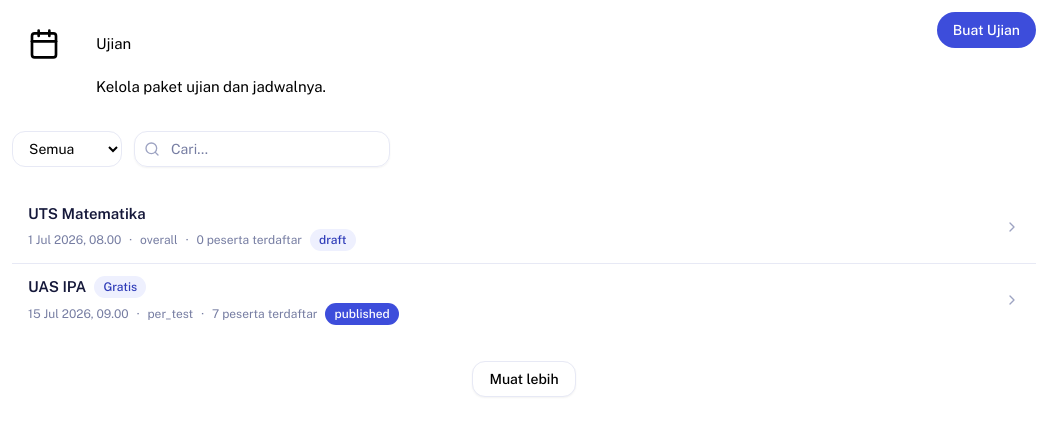
ExamPackagesPage › loads next_cursor pages and deduplicates exams by id
Click the button "Muat lebih".
click(524, 378)  # box x1=472 y1=360 x2=576 y2=396
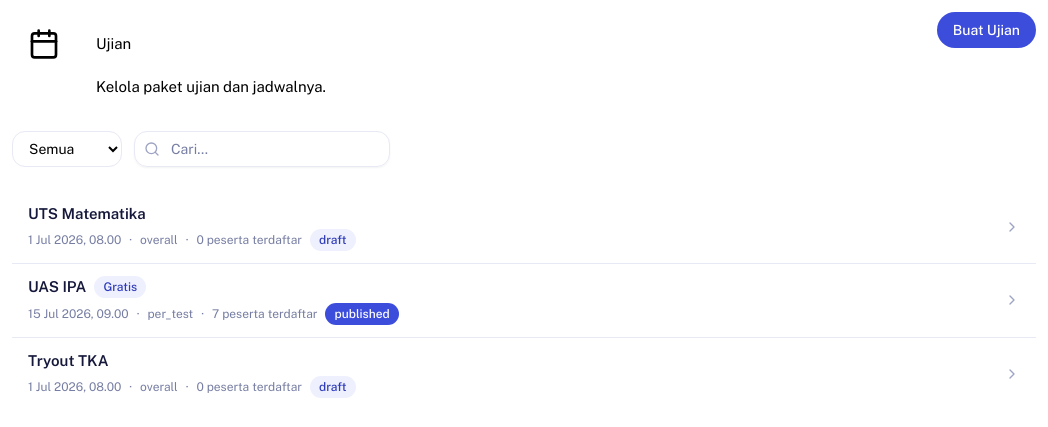
Expected: the text "Tryout TKA" is shown, x1=28 y1=350 x2=109 y2=372
Expected: the number of buttons with test id "package-row" is 3, x1=12 y1=190 x2=1036 y2=264; x1=12 y1=264 x2=1036 y2=338; x1=12 y1=338 x2=1036 y2=410
